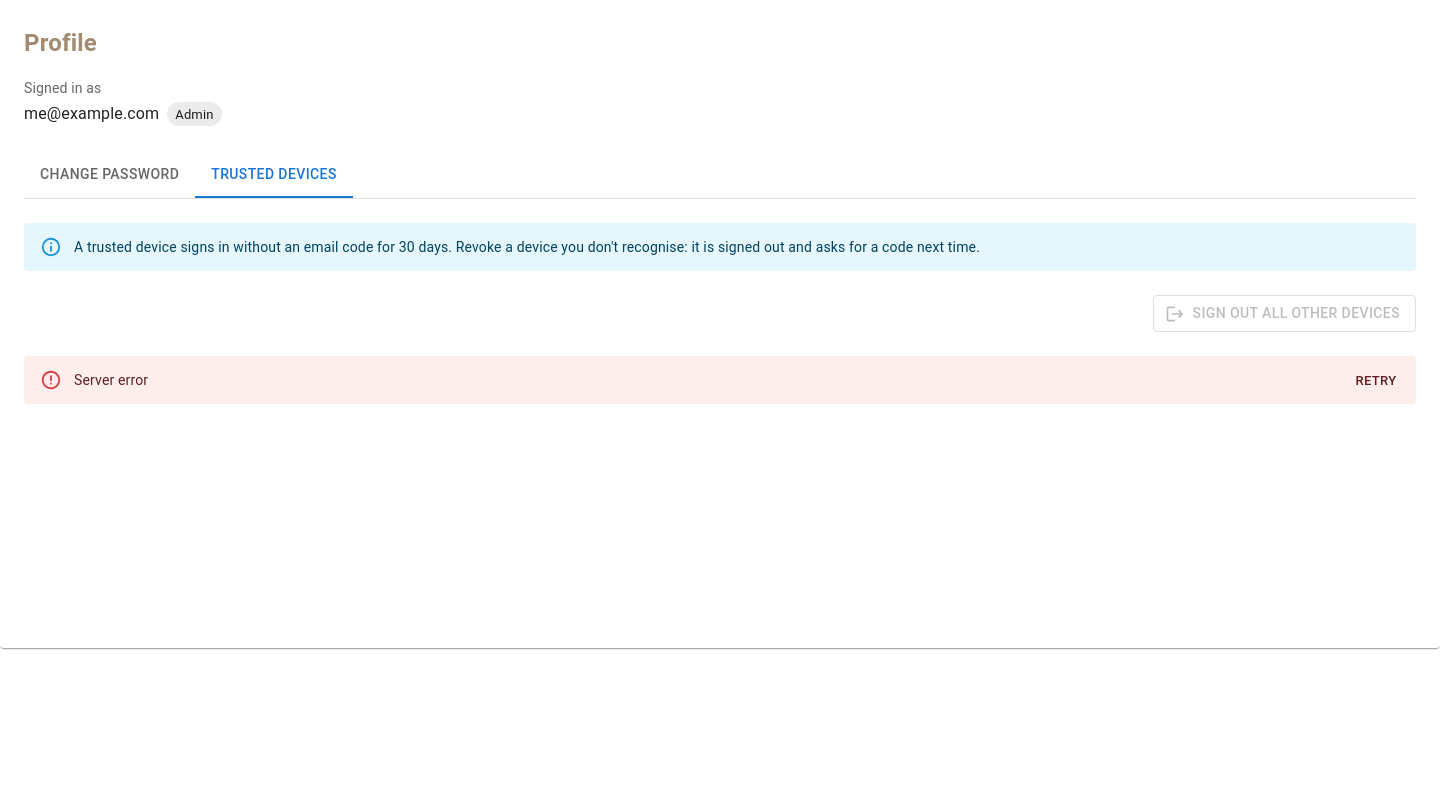
Test: TEOS-256 Profile > Trusted devices › shows the error state with Retry
expect the text "Server error" is shown: met, box [74,372,148,388]
Click the button "Retry" at (1376, 381), box [1344,366,1408,397]
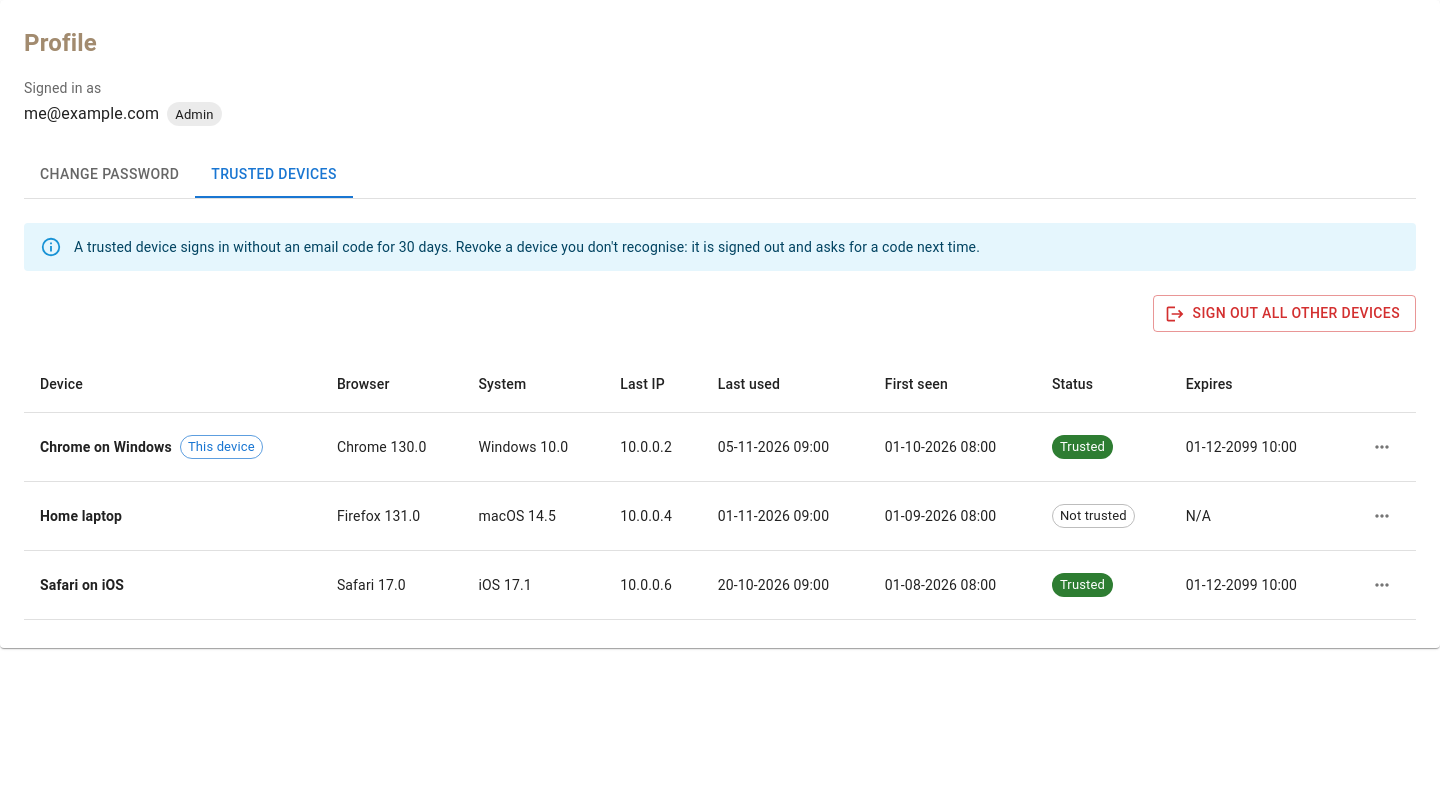
expect the text "Home laptop" is shown: met, box [40,506,122,526]
